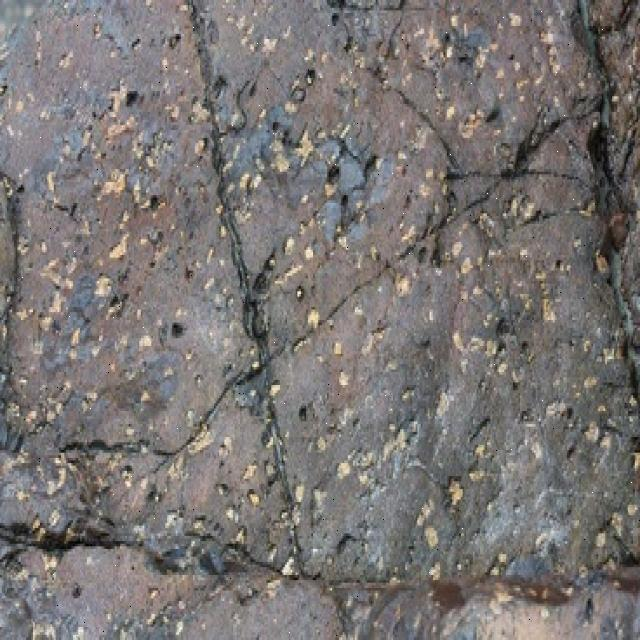Igneous: (1, 3, 636, 632)
